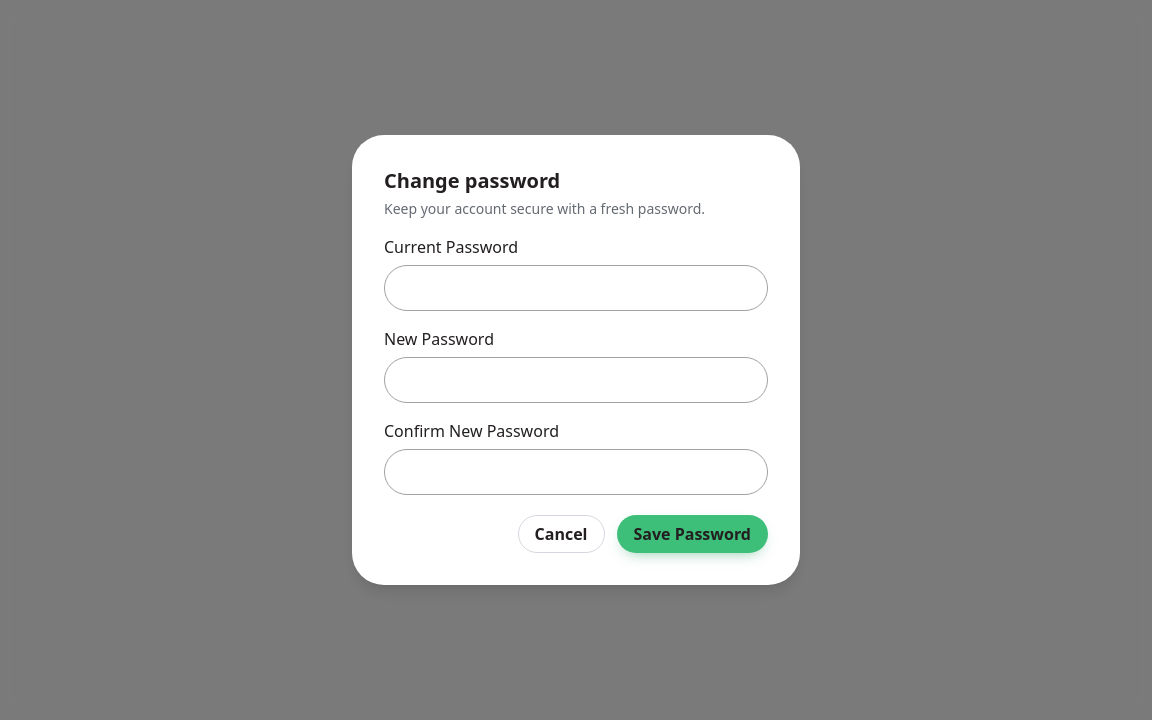
it: ResetPasswordModal › shows validation error for a weak new password
Type "OldPassword!123" into the password field labelled "Current Password" at (576, 288), box top-left (384, 265), bottom-right (768, 311)
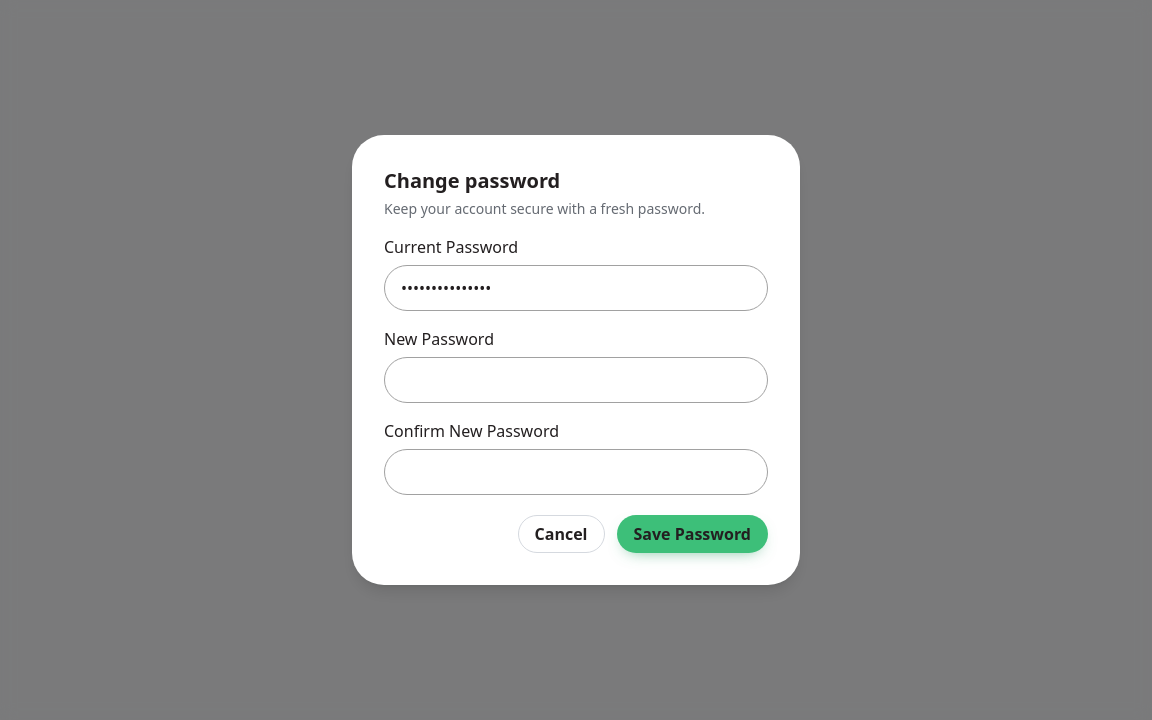
Type "weak" into the password field labelled "New Password" at (576, 380), box top-left (384, 357), bottom-right (768, 403)
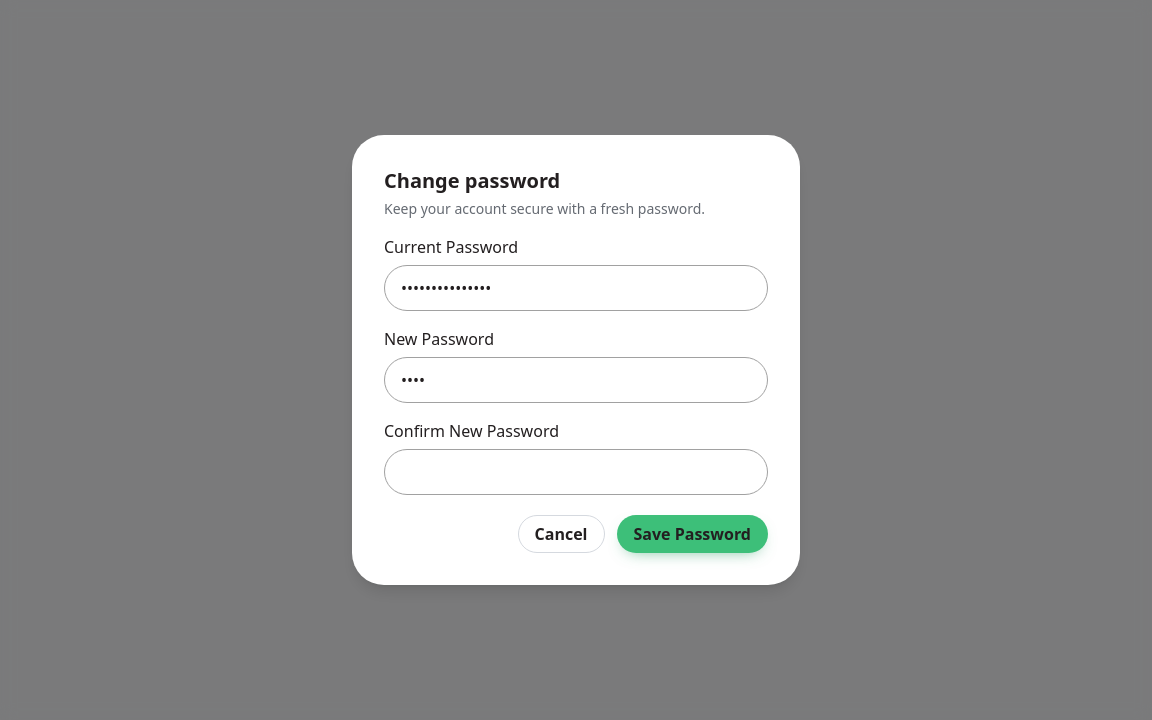
Type "weak" into the password field labelled "Confirm New Password" at (576, 472), box top-left (384, 449), bottom-right (768, 495)
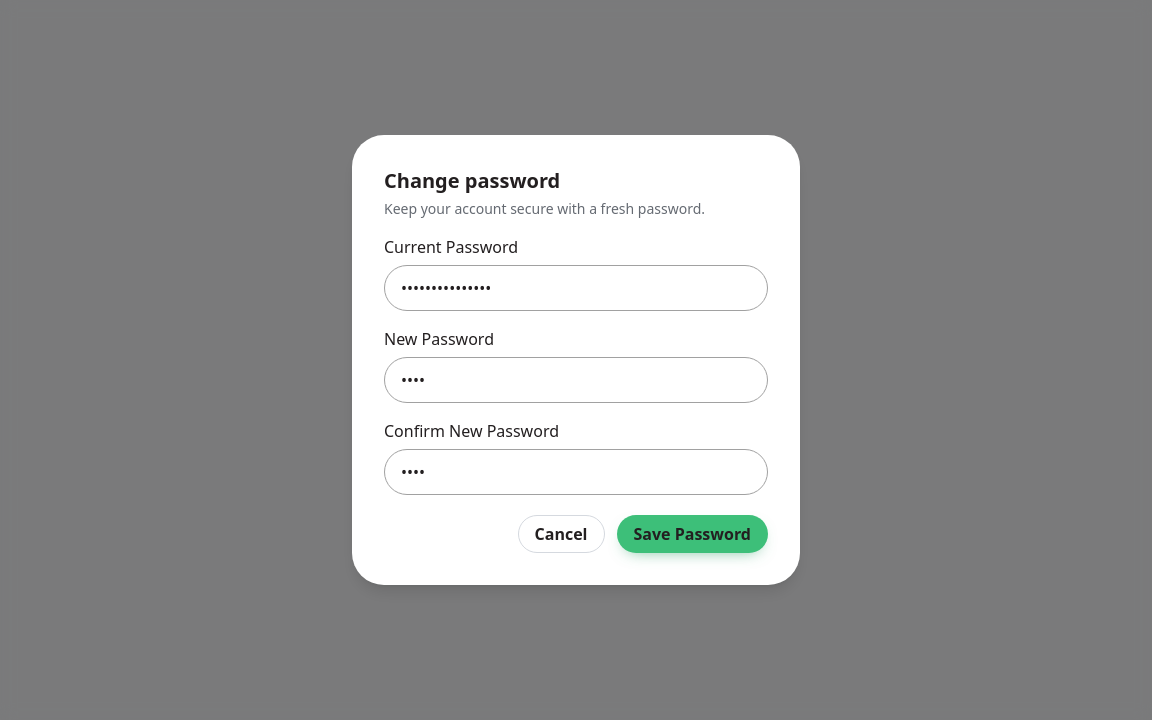
Submit the form named "Save Password", box top-left (384, 167), bottom-right (768, 553)
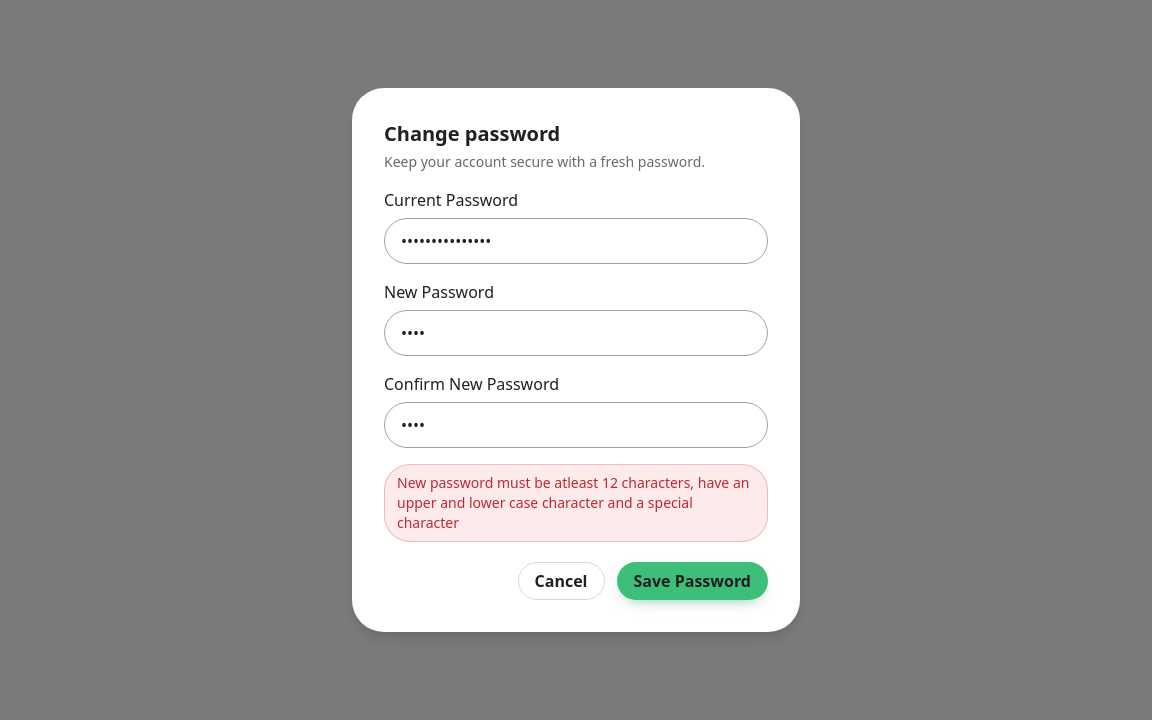
Now the message shows "New password must be atleast 12 characters, have an upper and lower case character and a special character", box top-left (397, 473), bottom-right (749, 532)
